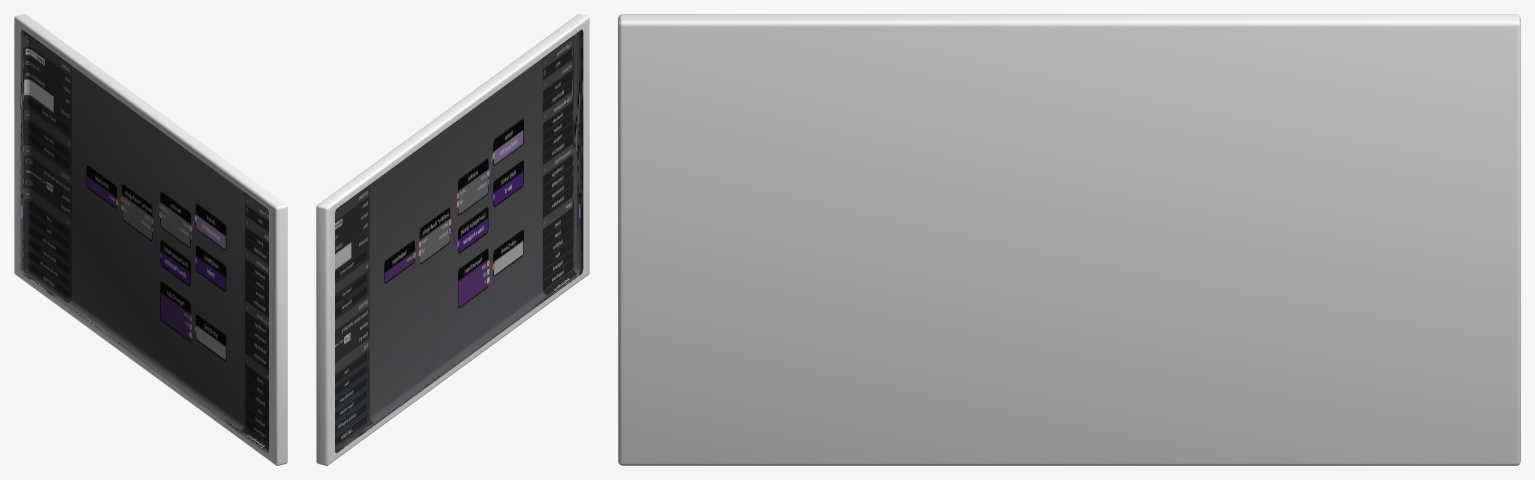
Rendered from board.gltf.
3 views of the same model, side by side, from view 1: azimuth 30°, elevation 25°; view 2: azimuth 150°, elevation 25°; view 3: azimuth 270°, elevation 25° (orthographic). The views are drawn at different scales.
Parts seen in each view (by area): view 1: bord, rand; view 2: bord, rand; view 3: rand.
Boxes of the visible parts, x1=… form: bord: x1=20, y1=29, x2=268, y2=453; rand: x1=14, y1=14, x2=287, y2=465; bord: x1=335, y1=29, x2=583, y2=453; rand: x1=316, y1=14, x2=589, y2=465; rand: x1=618, y1=14, x2=1520, y2=465.
Size of the model in its own units: 2.31 by 46.73 by 85.96.
Materials: 2 (1 with a texture image).
